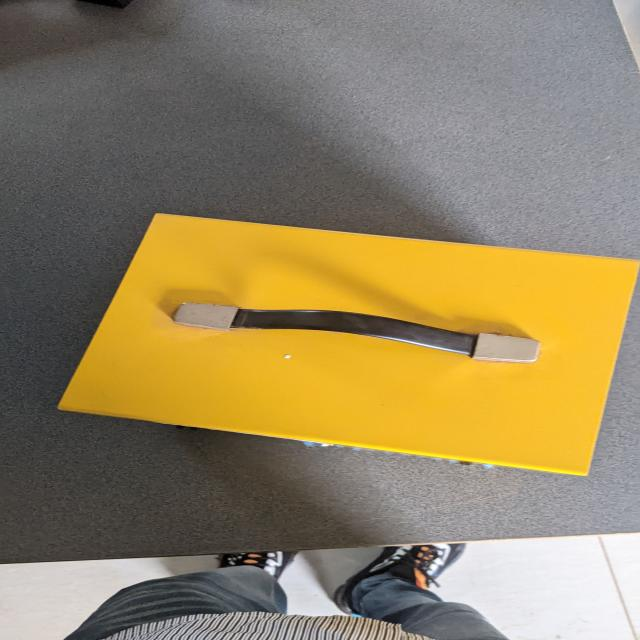Vacuum Pump: (44, 202, 640, 481)
